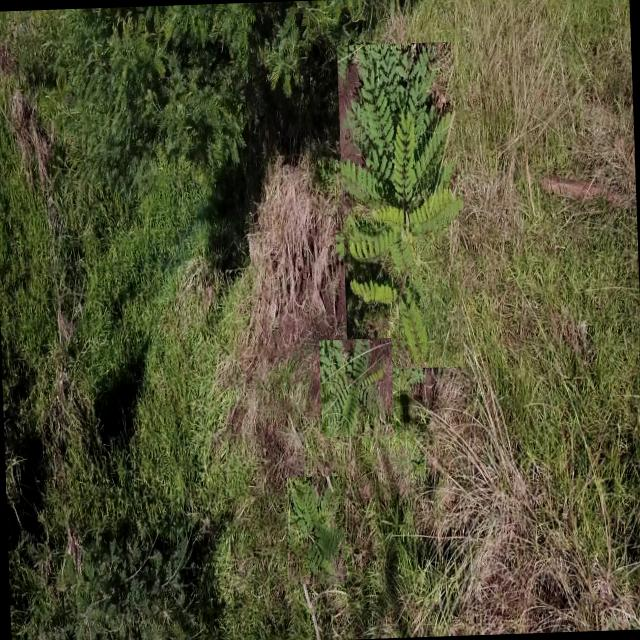Mysore-Thorn-Weed: (336, 41, 464, 370), (320, 338, 394, 438), (284, 476, 346, 584)
